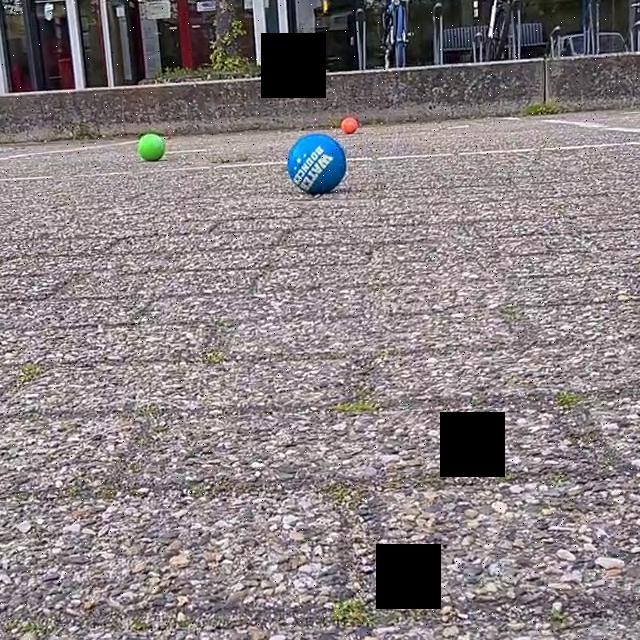ball: (135, 129, 168, 163), (339, 113, 361, 140)
